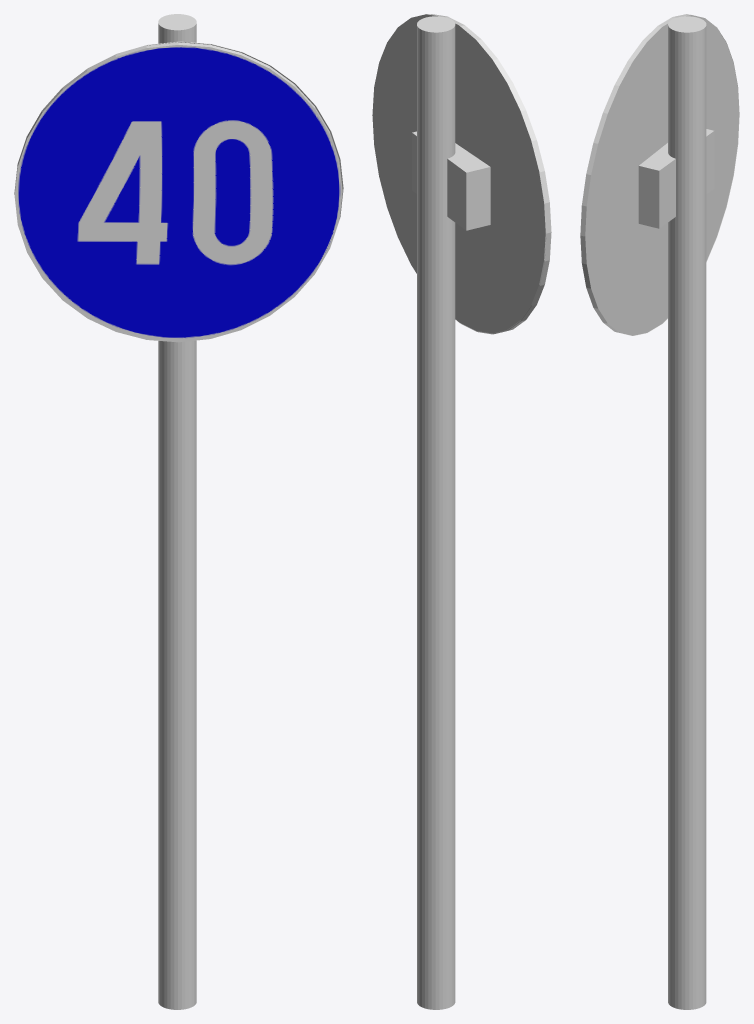
File: PerintKecepatan.fbx
The picture shows the model from 3 angles, left to right: view 1: azimuth 30°, elevation 25°; view 2: azimuth 150°, elevation 25°; view 3: azimuth 270°, elevation 25°; orthographic projection.
Parts seen in each view (by area): view 1: Cylinder.001, Cylinder; view 2: Cylinder, Cylinder.001, Cube; view 3: Cylinder, Cylinder.001, Cube.
Part boxes in pixels (x1,y1,x2,y2): Cylinder.001: (14, 41, 343, 342); Cylinder: (158, 14, 196, 1009); Cylinder: (417, 16, 455, 1009); Cylinder.001: (372, 14, 551, 334); Cube: (412, 131, 490, 230); Cylinder: (668, 16, 706, 1009); Cylinder.001: (580, 14, 739, 335); Cube: (638, 129, 714, 228).
Size of the model in its own units: 197 by 727 by 107.
